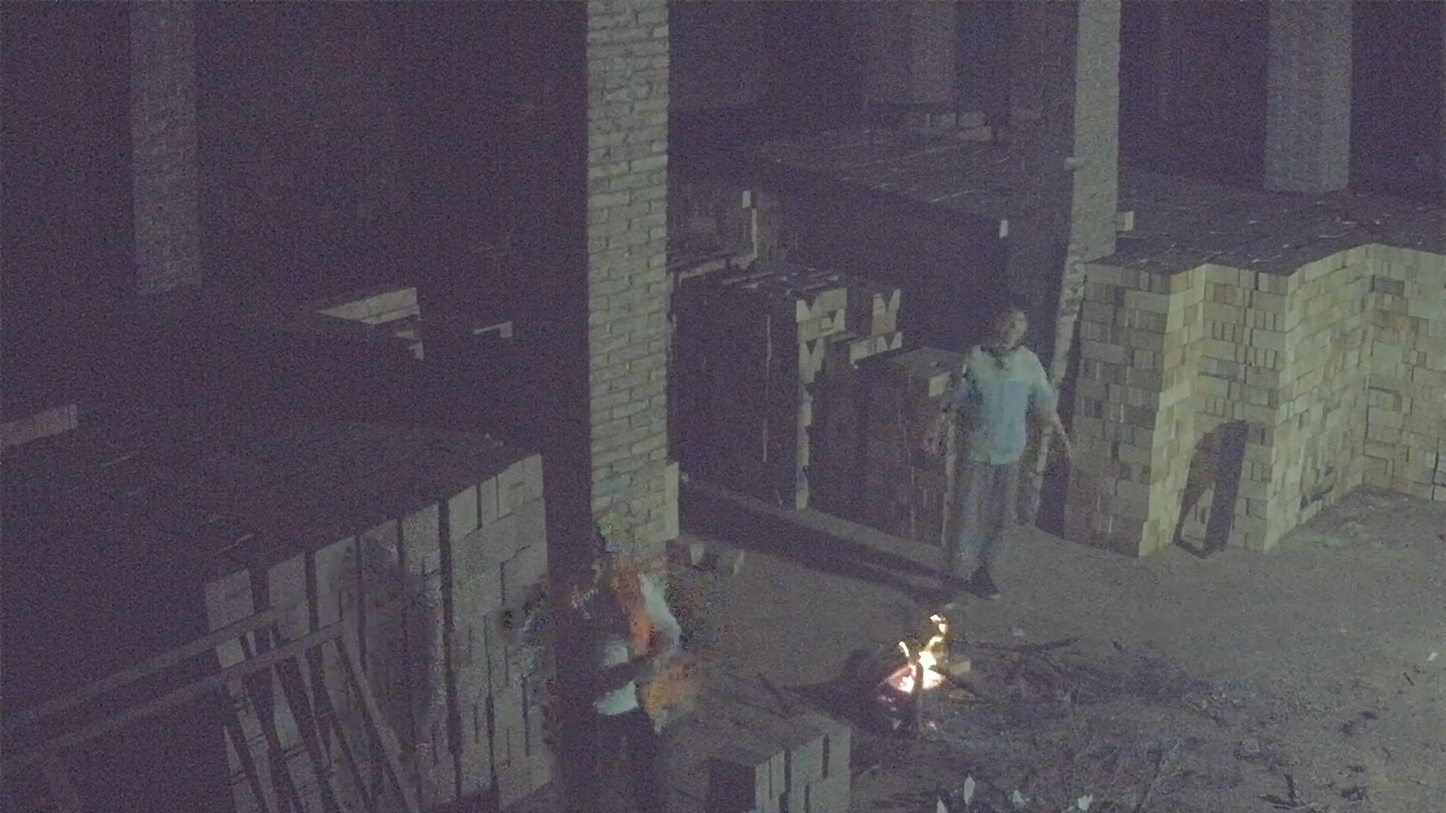fire: (888, 614, 949, 693)
